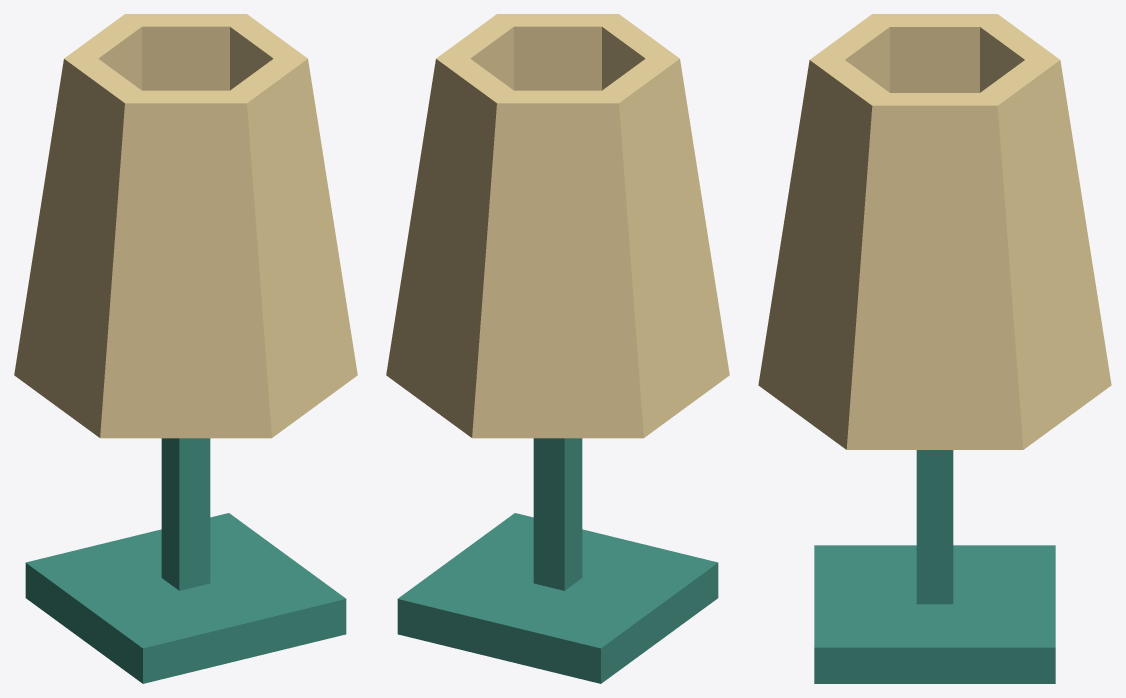
File: lampRoundTable.glb
The picture shows the model from 3 angles, left to right: view 1: azimuth 30°, elevation 25°; view 2: azimuth 150°, elevation 25°; view 3: azimuth 270°, elevation 25°; orthographic projection. The views are drawn at different scales.
Visible parts, largest first — view 1: lampRoundTable; view 2: lampRoundTable; view 3: lampRoundTable.
Boxes of the visible parts, x1,y1,x2,y2 form: lampRoundTable: [14, 14, 357, 683]; lampRoundTable: [386, 14, 729, 683]; lampRoundTable: [758, 14, 1111, 683].
Size of the model in its own units: 1 by 2.07 by 1.15.
